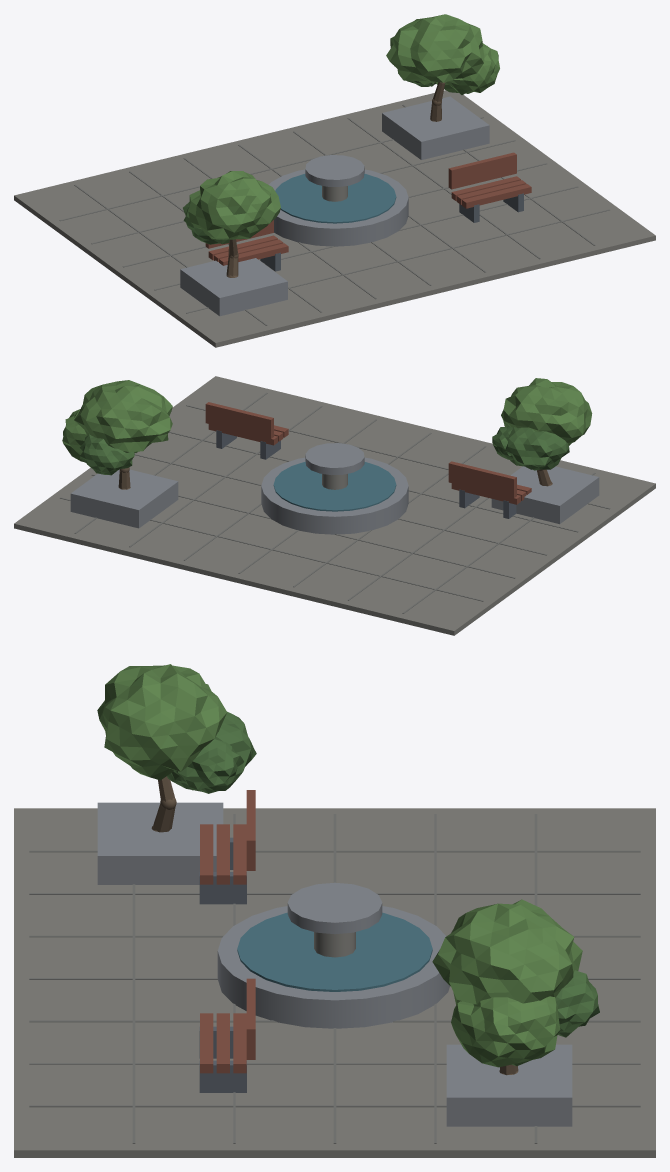
The model's file is civic_plaza_lvl1.glb.
3 renders of one model, top to bottom at view 1: azimuth 30°, elevation 25°; view 2: azimuth 150°, elevation 25°; view 3: azimuth 270°, elevation 25°, orthographic. The views are drawn at different scales.
Parts seen in each view (by area): view 1: civic_plaza; view 2: civic_plaza; view 3: civic_plaza.
Boxes of the visible parts, x1,y1,x2,y2 form: civic_plaza: (14,14,655,347); civic_plaza: (14,376,655,635); civic_plaza: (14,664,655,1157).
Size of the model in its own units: 1 by 0.2722 by 0.7931.
